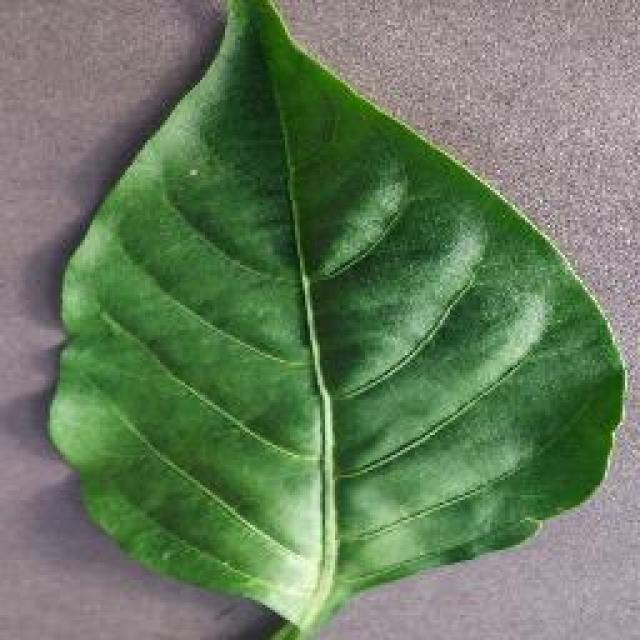Leaf: (25, 10, 640, 612)
